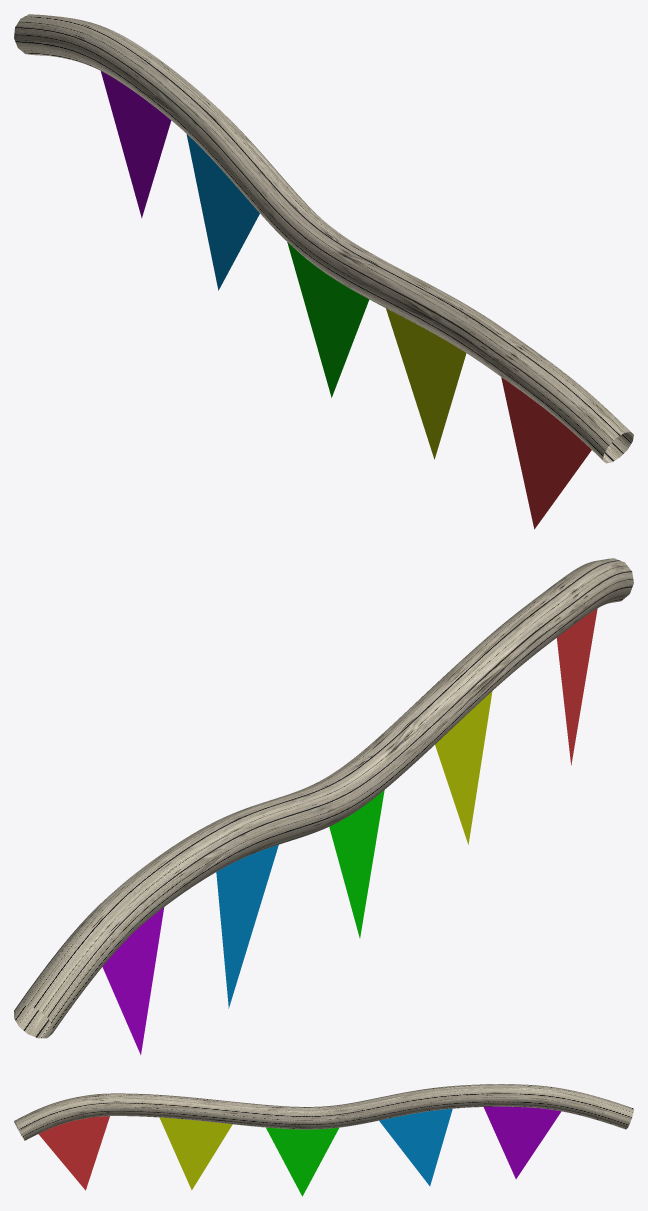
The model's file is Flag.glb.
The picture shows the model from 3 angles, top to bottom: view 1: azimuth 30°, elevation 25°; view 2: azimuth 150°, elevation 25°; view 3: azimuth 270°, elevation 25°; orthographic projection. The views are drawn at different scales.
Visible parts, largest first — view 1: Hanger, Flag01, Flag02, Flag03, Flag04, Flag06; view 2: Hanger, Flag04, Flag06, Flag02, Flag03, Flag01; view 3: Hanger, Flag06, Flag04, Flag01, Flag02, Flag03.
Boxes of the visible parts, <box> form: Hanger: <box>14,14,633,463</box>; Flag01: <box>501,377,591,529</box>; Flag02: <box>386,308,466,459</box>; Flag03: <box>287,242,369,397</box>; Flag04: <box>186,134,259,290</box>; Flag06: <box>101,71,171,218</box>; Hanger: <box>14,558,633,1038</box>; Flag04: <box>216,845,278,1008</box>; Flag06: <box>102,907,164,1054</box>; Flag02: <box>435,691,492,844</box>; Flag03: <box>329,790,384,938</box>; Flag01: <box>556,608,597,765</box>; Hanger: <box>14,1084,633,1140</box>; Flag06: <box>483,1106,561,1178</box>; Flag04: <box>379,1108,452,1185</box>; Flag01: <box>38,1116,109,1190</box>; Flag02: <box>160,1117,232,1190</box>; Flag03: <box>266,1127,338,1196</box>.
Bounding box in the file's own units: 1.91 × 6.1 × 30.65.
6 materials, 1 textured.
